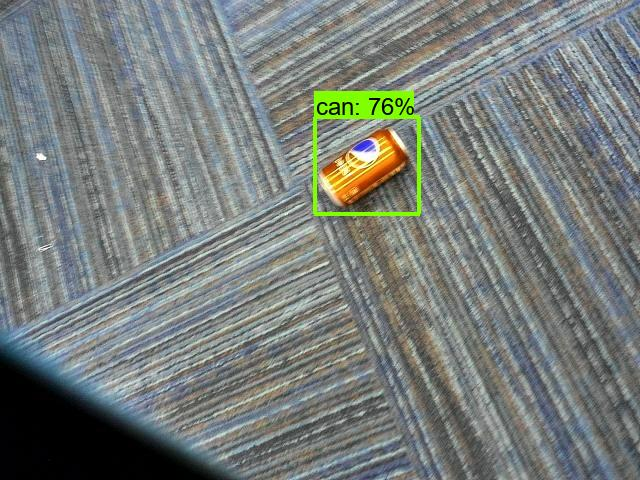can: (302, 119, 417, 244)
